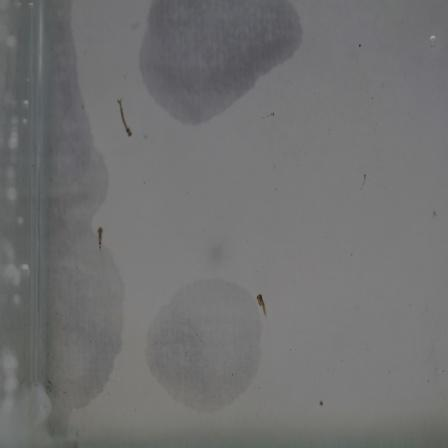Jentik-Nyamuk: (113, 96, 136, 141), (252, 288, 273, 320), (92, 224, 108, 254)
